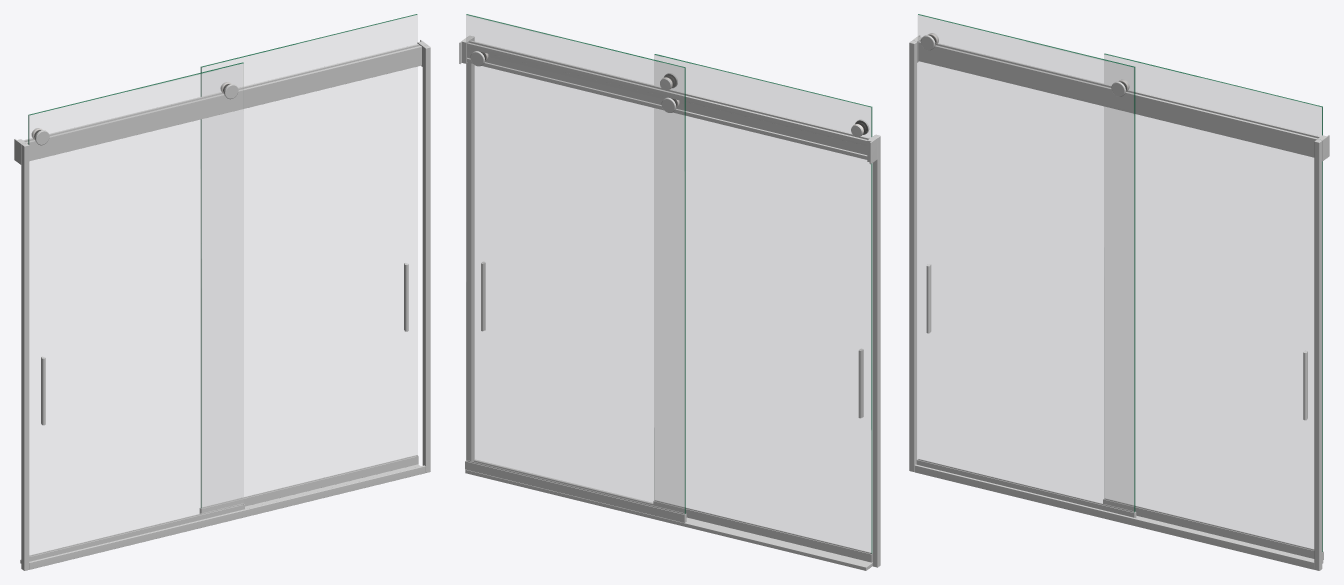
Rendered from kohler-levity-frameless.glb.
3 views of the same model, side by side, from view 1: azimuth 30°, elevation 25°; view 2: azimuth 150°, elevation 25°; view 3: azimuth 330°, elevation 25° (orthographic).
Parts seen in each view (by area): view 1: Opac, Base; view 2: Opac, Base; view 3: Opac, Base.
Part boxes in pixels (left/top/right/bottom): Opac: left=28, top=14, right=417, bottom=556; Base: left=14, top=40, right=430, bottom=570; Opac: left=466, top=14, right=872, bottom=553; Base: left=459, top=35, right=880, bottom=570; Opac: left=918, top=14, right=1322, bottom=551; Base: left=909, top=33, right=1329, bottom=570.
Bounding box in the file's own units: 1.52 × 1.62 × 0.0772.
Materials: 2 (2 with a texture image).
